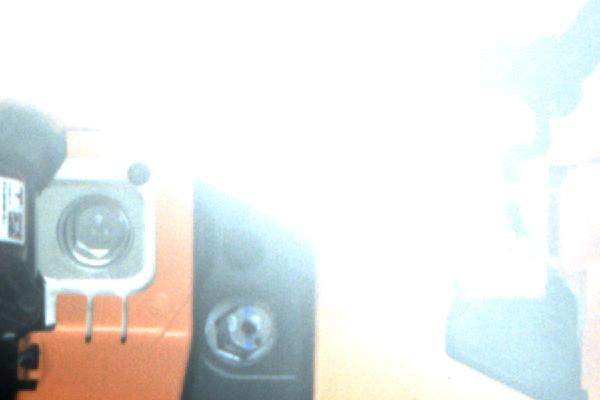nut_b: (50, 192, 145, 275)
